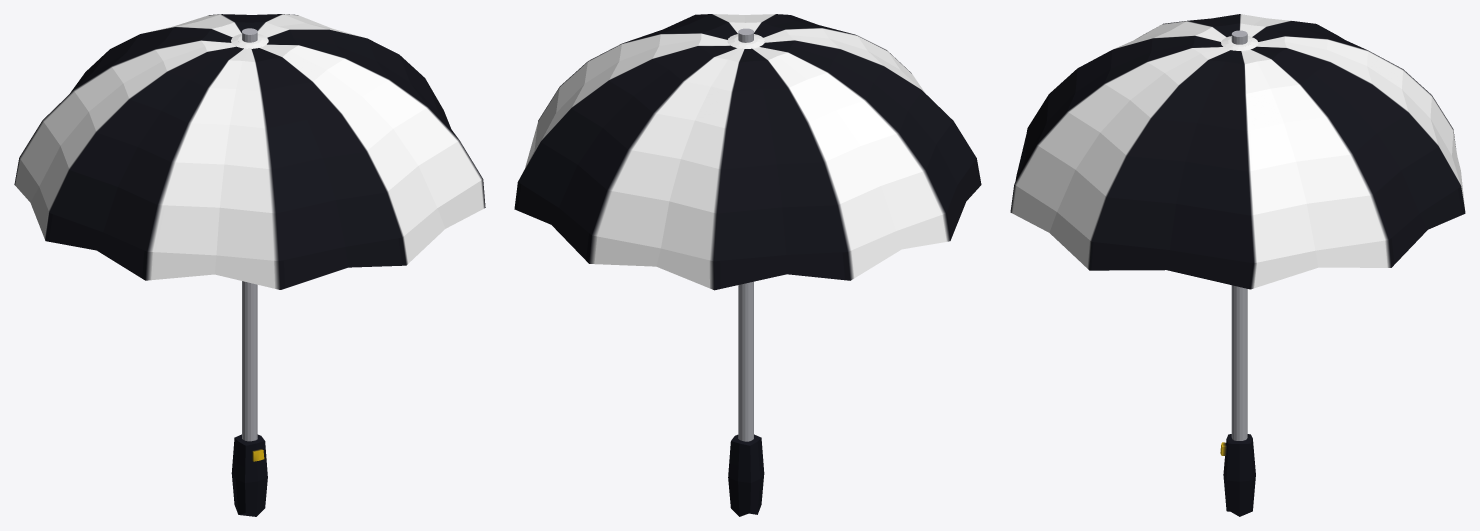
Rendered from rain.glb.
3 renders of one model, left to right at view 1: azimuth 30°, elevation 25°; view 2: azimuth 150°, elevation 25°; view 3: azimuth 270°, elevation 25°, orthographic.
Visible parts, largest first — view 1: PM3D_Sphere3D_1; view 2: PM3D_Sphere3D_1; view 3: PM3D_Sphere3D_1.
Boxes of the visible parts, left/top/right/bottom form: PM3D_Sphere3D_1: left=14, top=14, right=485, bottom=516; PM3D_Sphere3D_1: left=514, top=14, right=981, bottom=516; PM3D_Sphere3D_1: left=1010, top=14, right=1465, bottom=516.
Size of the model in its own units: 4.3 by 4.85 by 4.18.
1 material, 1 textured.
